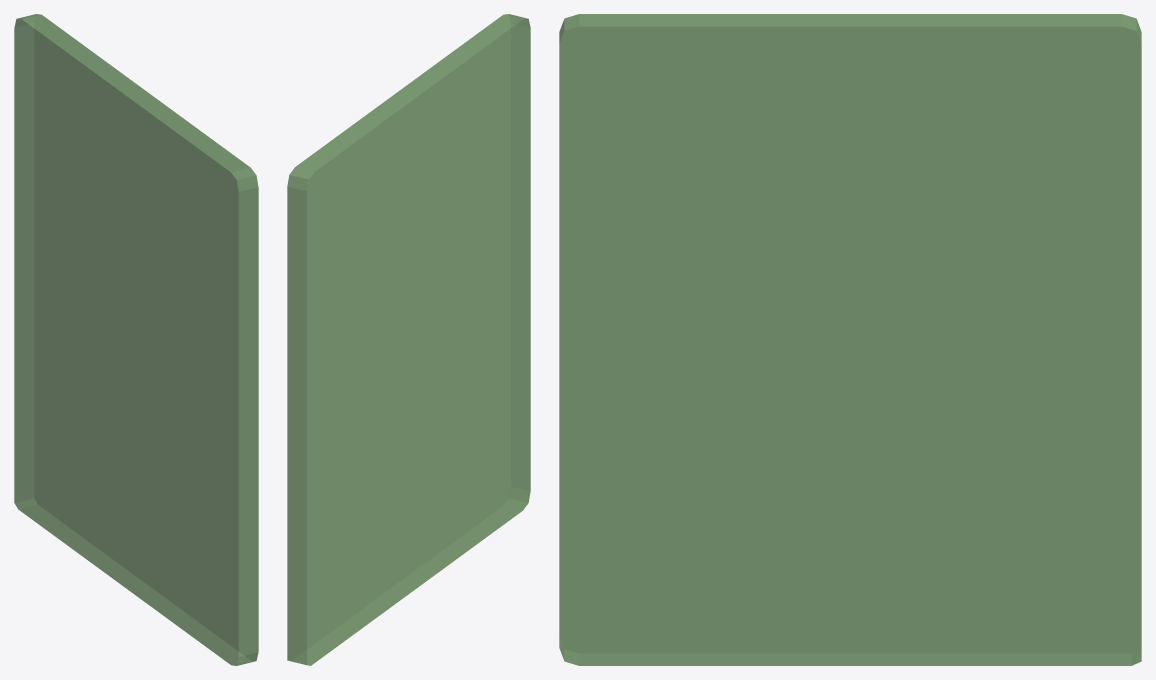
File: OvenDoor.obj
3 renders of one model, left to right at view 1: azimuth 30°, elevation 25°; view 2: azimuth 150°, elevation 25°; view 3: azimuth 270°, elevation 25°, orthographic. The views are drawn at different scales.
Parts seen in each view (by area): view 1: Shape_IndexedFaceSet_Shape_IndexedFaceSet.254; view 2: Shape_IndexedFaceSet_Shape_IndexedFaceSet.254; view 3: Shape_IndexedFaceSet_Shape_IndexedFaceSet.254.
Part boxes in pixels (x1=…): Shape_IndexedFaceSet_Shape_IndexedFaceSet.254: x1=14, y1=14, x2=258, y2=665; Shape_IndexedFaceSet_Shape_IndexedFaceSet.254: x1=287, y1=14, x2=530, y2=665; Shape_IndexedFaceSet_Shape_IndexedFaceSet.254: x1=559, y1=14, x2=1141, y2=665.
Size of the model in its own units: 0.0251 by 0.5992 by 0.4944.
